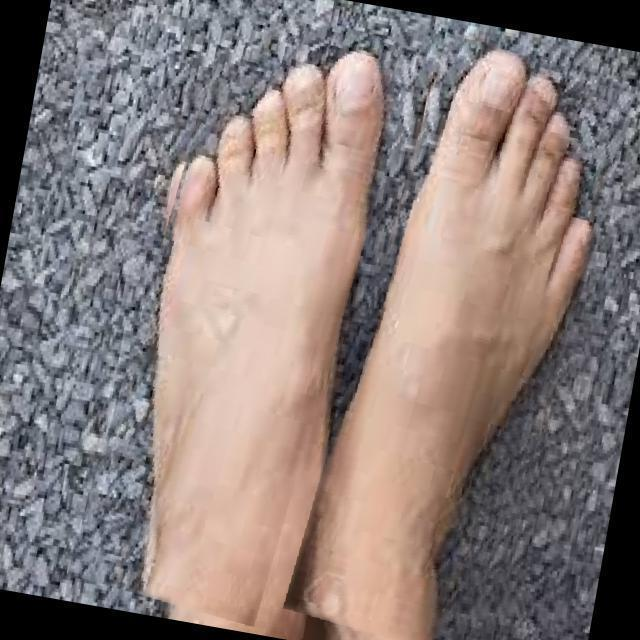No_Shoes: (313, 62, 621, 596), (126, 19, 390, 640)
